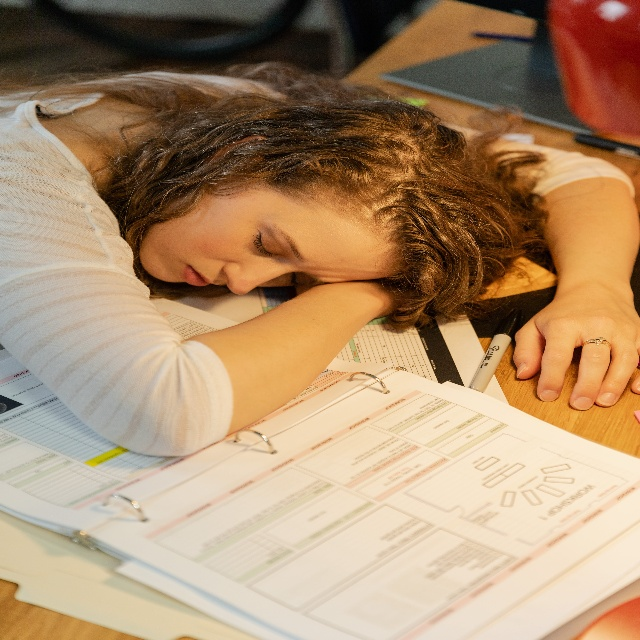Sin_guantes: (514, 286, 640, 412)
